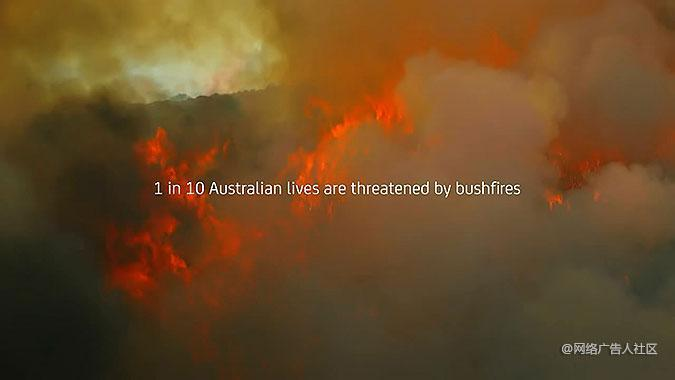fire: (104, 119, 267, 310), (284, 64, 412, 214)
